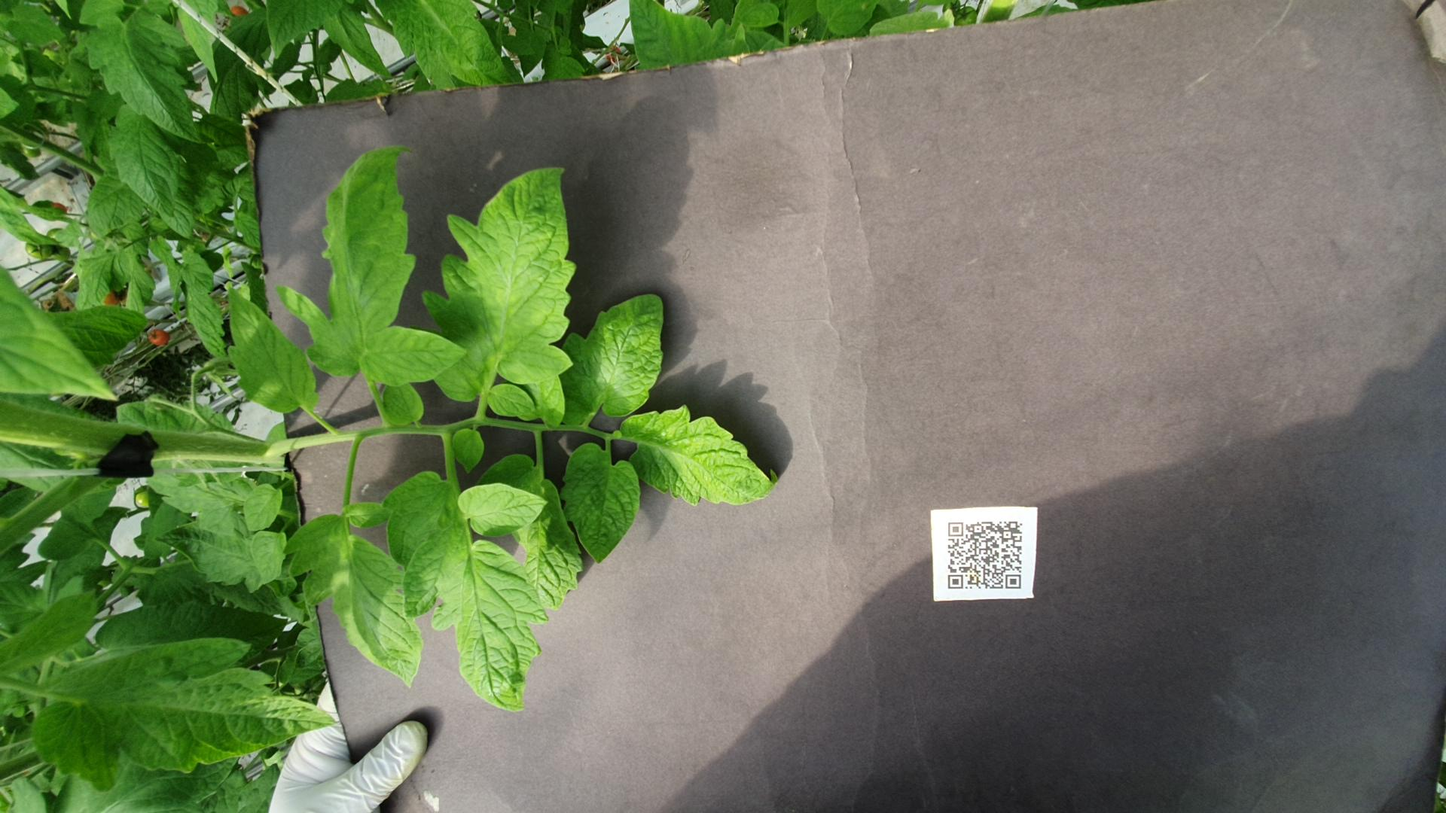Healthy: (35, 16, 314, 190), (755, 154, 1192, 262), (169, 215, 608, 311), (705, 236, 1161, 325), (224, 158, 558, 236), (533, 348, 736, 440), (1186, 46, 1429, 113), (689, 315, 932, 378), (1287, 210, 1446, 288), (711, 125, 945, 175), (440, 315, 657, 362), (391, 85, 521, 146), (1063, 61, 1263, 99), (1303, 181, 1443, 222), (1339, 147, 1446, 192), (497, 136, 585, 160), (405, 140, 502, 161)
